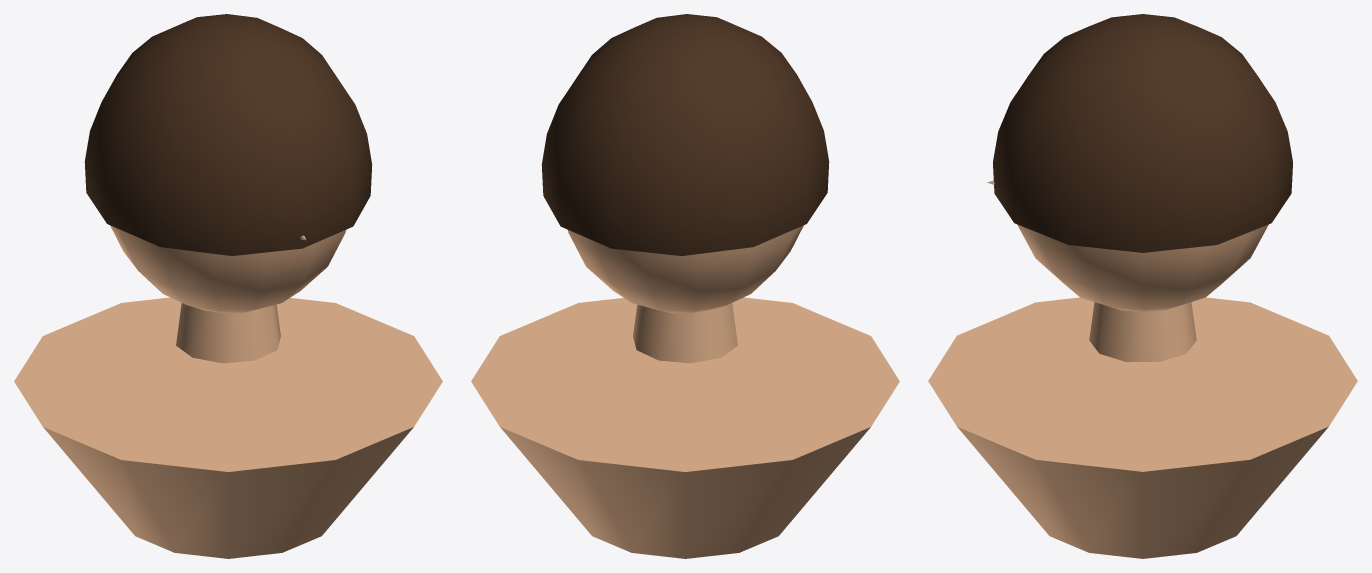
The model's file is raw_002.glb.
3 views of the same model, side by side, from view 1: azimuth 30°, elevation 25°; view 2: azimuth 150°, elevation 25°; view 3: azimuth 270°, elevation 25° (orthographic).
Size of the model in its own units: 1.68 by 2.1 by 1.68.
